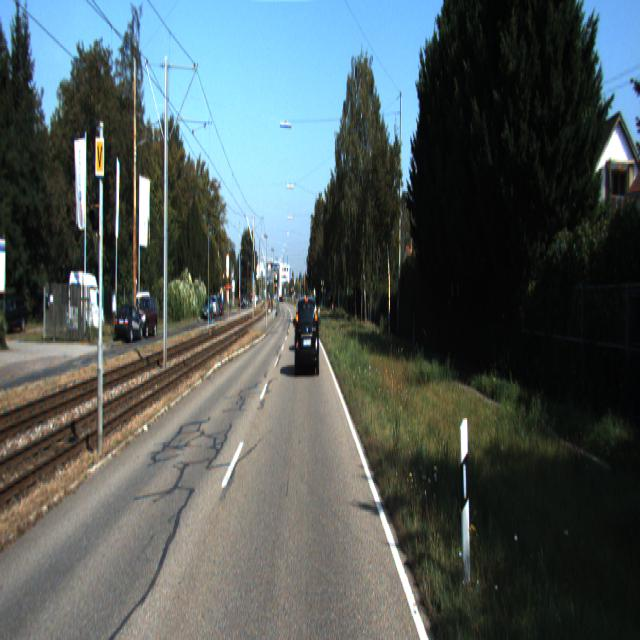Car: (68, 273, 106, 343), (295, 294, 320, 376), (114, 306, 145, 346), (132, 298, 159, 340)
